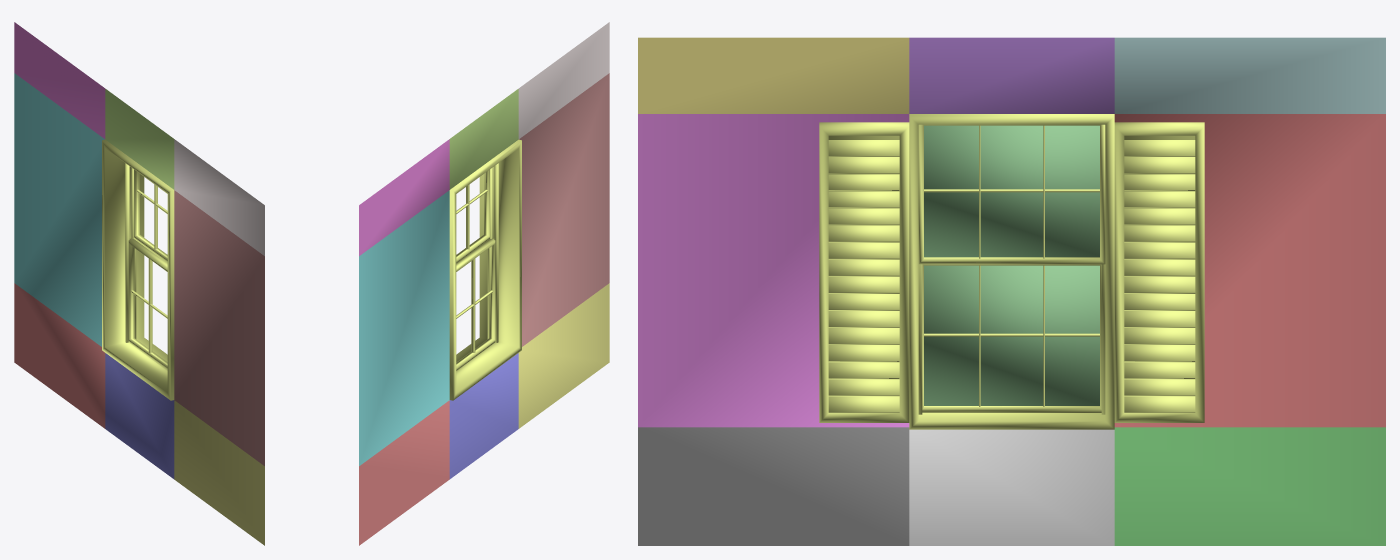
Rendered from SM_window_01.gltf.
3 renders of one model, left to right at view 1: azimuth 30°, elevation 25°; view 2: azimuth 150°, elevation 25°; view 3: azimuth 270°, elevation 25°, orthographic. The views are drawn at different scales.
Parts seen in each view (by area): view 1: SM_window_01; view 2: SM_window_01; view 3: SM_window_01.
Part boxes in pixels (box(x1,y1,x2,y2)): SM_window_01: box(14, 22, 264, 545); SM_window_01: box(359, 22, 609, 545); SM_window_01: box(638, 37, 1385, 545).
Size of the model in its own units: 0.403 by 3 by 4.
